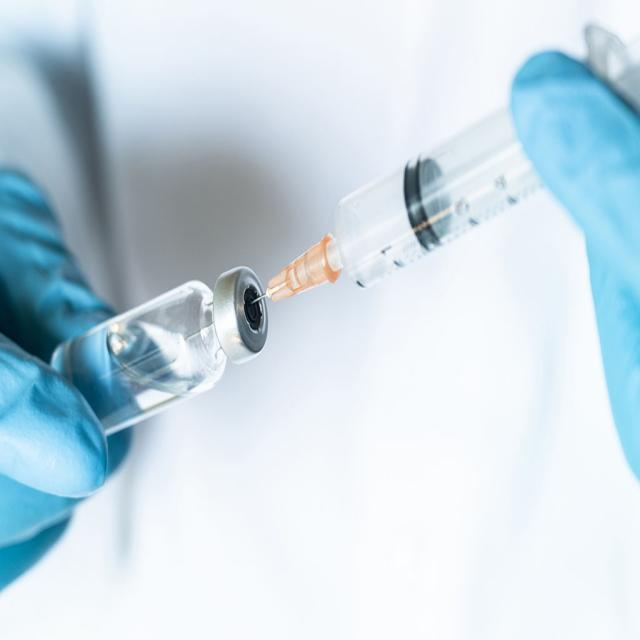syringe: (255, 102, 544, 341)
